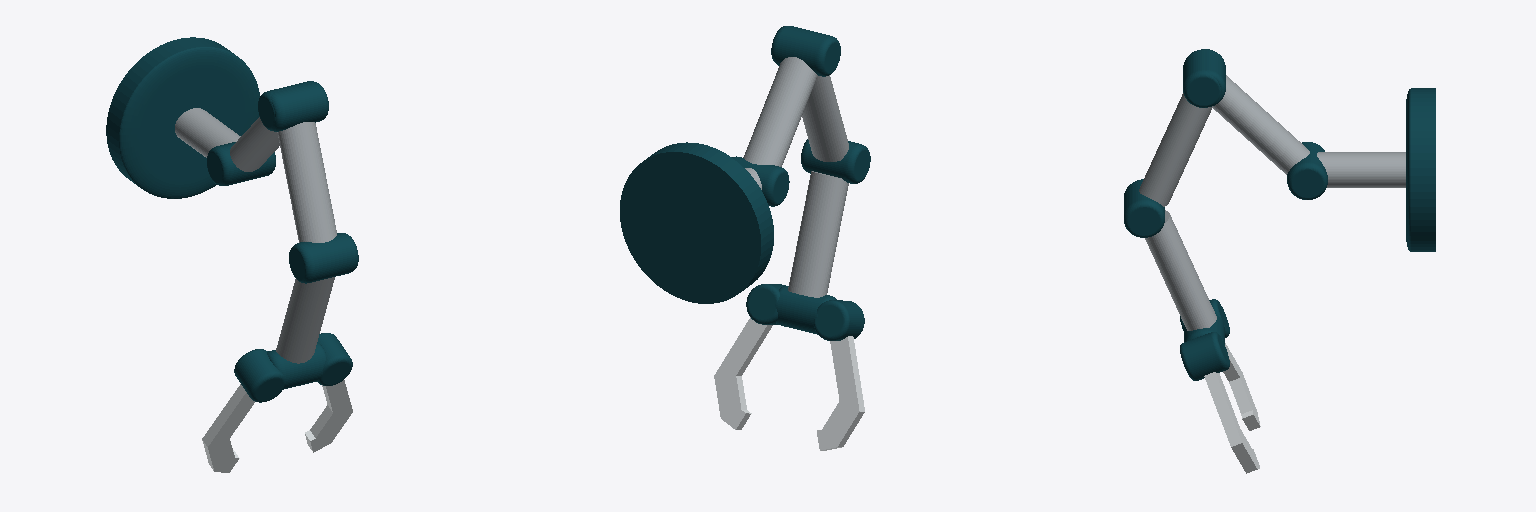
File: tinker.obj
The picture shows the model from 3 angles: view 1: azimuth 30°, elevation 25°; view 2: azimuth 150°, elevation 25°; view 3: azimuth 270°, elevation 25°; orthographic projection.
Visible parts, largest first — view 1: obj_0; view 2: obj_0; view 3: obj_0.
Boxes of the visible parts, x1=… form: obj_0: x1=106, y1=37, x2=358, y2=472; obj_0: x1=620, y1=26, x2=870, y2=450; obj_0: x1=1124, y1=49, x2=1435, y2=473.
Size of the model in its own units: 82.22 by 211 by 153.